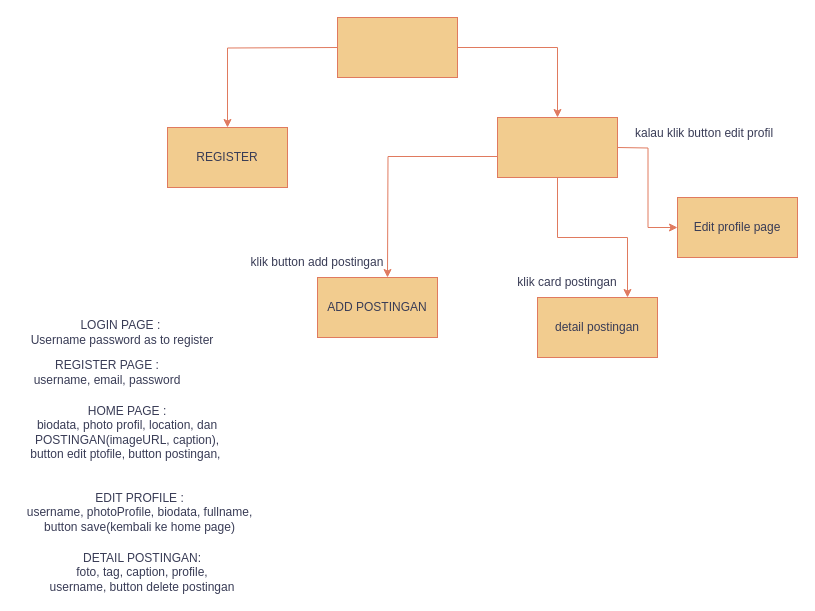
The diagram is 815 pixels wide and 611 high, and some of its shapes have lost their labels. The centre of each missing label's shape, as x and y in pixels:
"HOME PAGE/PROFIL" goes at point (557, 147).
"LOGIN PAGE" goes at point (397, 47).
